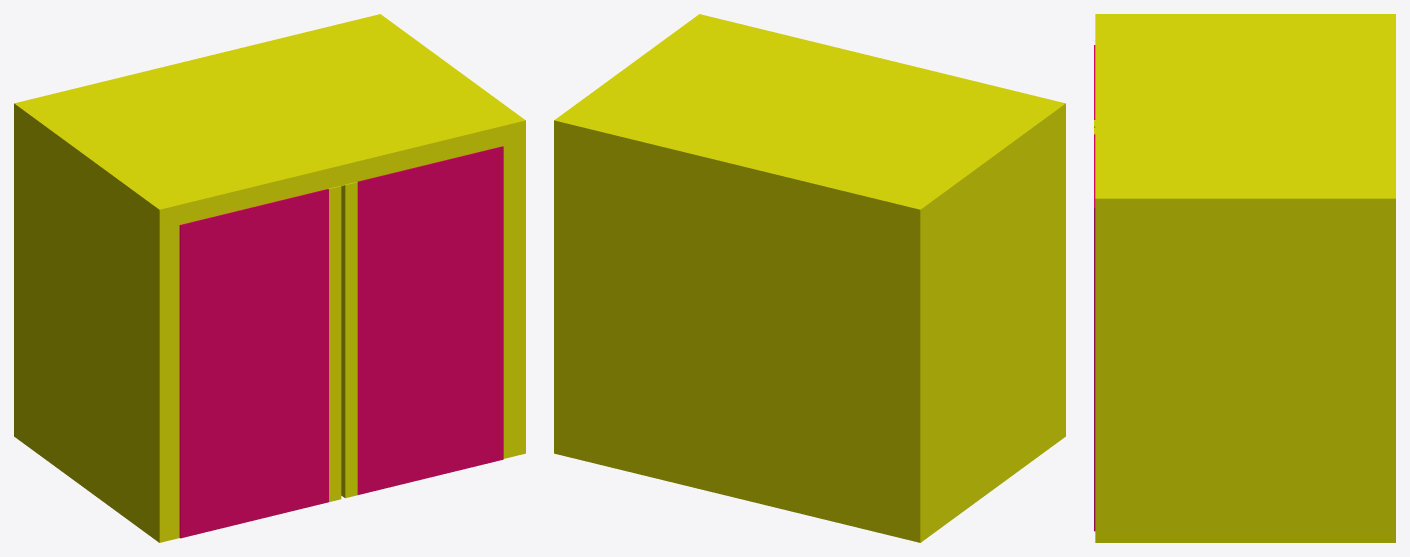
File: gate.fbx
The picture shows the model from 3 angles, left to right: view 1: azimuth 30°, elevation 25°; view 2: azimuth 150°, elevation 25°; view 3: azimuth 270°, elevation 25°; orthographic projection. The views are drawn at different scales.
Visible parts, largest first — view 1: pCube3, pCube1, polySurface2, polySurface1, pCube2, pCube4; view 2: pCube4, pCube1, pCube3, pCube2; view 3: pCube2, pCube1, pCube4, pCube3, polySurface1.
Boxes of the visible parts, x1=… form: pCube3: x1=14, y1=98, x2=180, y2=542; pCube1: x1=14, y1=14, x2=525, y2=230; polySurface2: x1=179, y1=186, x2=341, y2=538; polySurface1: x1=341, y1=146, x2=503, y2=498; pCube2: x1=358, y1=14, x2=525, y2=458; pCube4: x1=15, y1=15, x2=391, y2=440; pCube4: x1=554, y1=112, x2=931, y2=542; pCube1: x1=554, y1=14, x2=1065, y2=230; pCube3: x1=899, y1=98, x2=1065, y2=542; pCube2: x1=554, y1=14, x2=721, y2=458; pCube2: x1=1095, y1=187, x2=1395, y2=542; pCube1: x1=1095, y1=14, x2=1395, y2=220; pCube4: x1=1372, y1=14, x2=1395, y2=542; pCube3: x1=1095, y1=14, x2=1395, y2=24; polySurface1: x1=1094, y1=128, x2=1095, y2=531.
Bounding box in the file's own units: 9 × 7.82 × 6.21.
